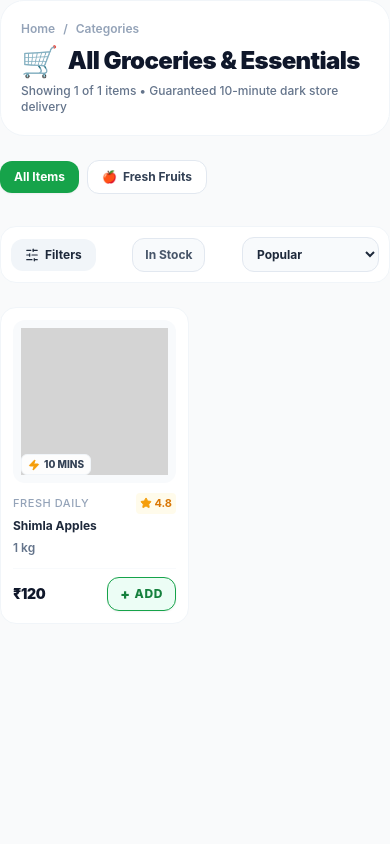
Test case: Phase 8: Customer UI Components and Flows › CategoriesPage & Mobile Filtering › renders mobile filter toolbar and opens filter drawer
Check: the link "Shimla Apples" is shown, box [13, 518, 97, 532]
// Click to open mobile filter modal
Click the button "Filters".
click(53, 254)  # box [11, 238, 96, 270]
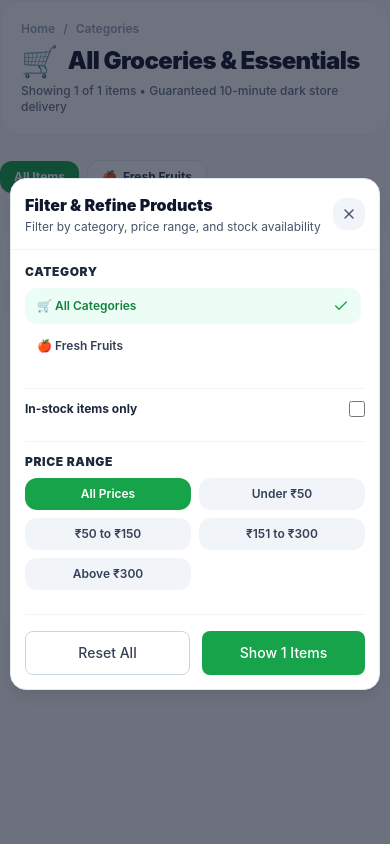
Check: the heading "Filter & Refine Products" is shown, box [25, 195, 213, 215]
